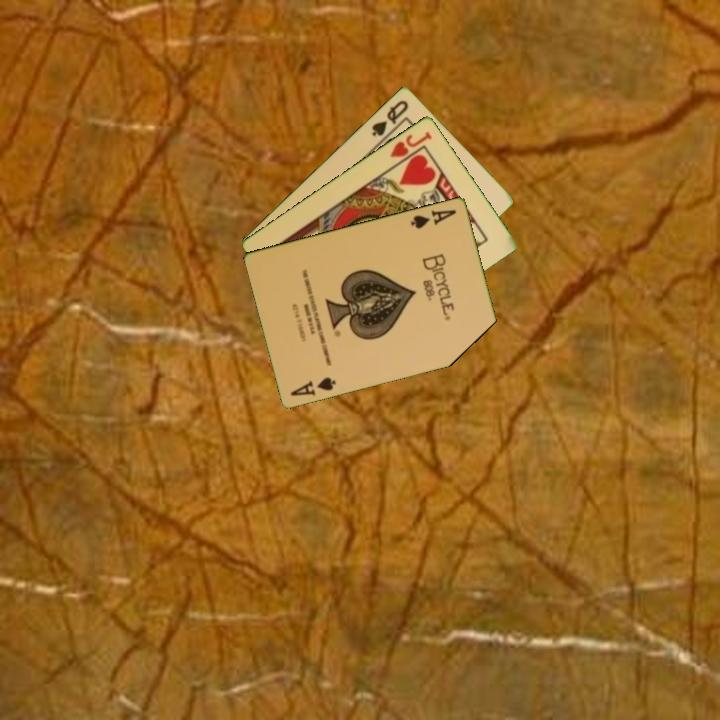As: (407, 205, 459, 231), (287, 373, 339, 399)
Jh: (386, 127, 435, 169)
Qs: (368, 96, 412, 139)
